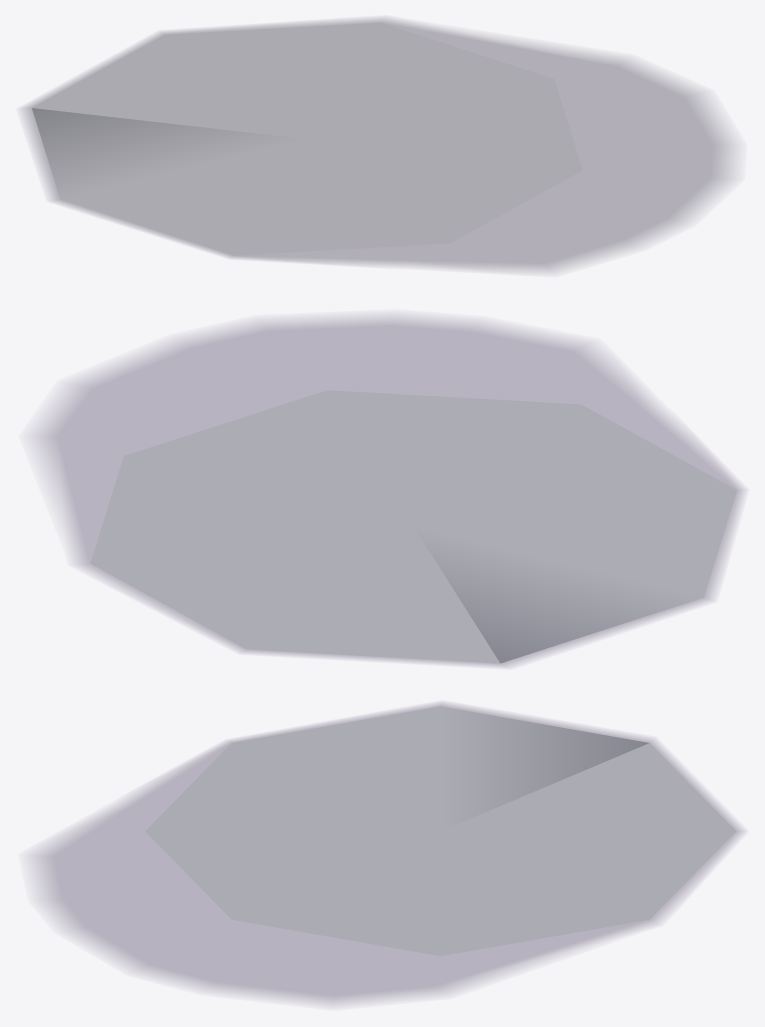
3 renders of one model, top to bottom at view 1: azimuth 30°, elevation 25°; view 2: azimuth 150°, elevation 25°; view 3: azimuth 270°, elevation 25°, orthographic. The views are drawn at different scales.
Visible parts, largest first — view 1: Joint_0_Object_0; view 2: Joint_0_Object_0; view 3: Joint_0_Object_0.
Part boxes in pixels (x1,y1,x2,y2): Joint_0_Object_0: (23, 18, 732, 271); Joint_0_Object_0: (35, 316, 743, 666); Joint_0_Object_0: (33, 703, 743, 1004).
Size of the model in its own units: 343 by 0 by 340.
Materials: 1 (1 with a texture image).
